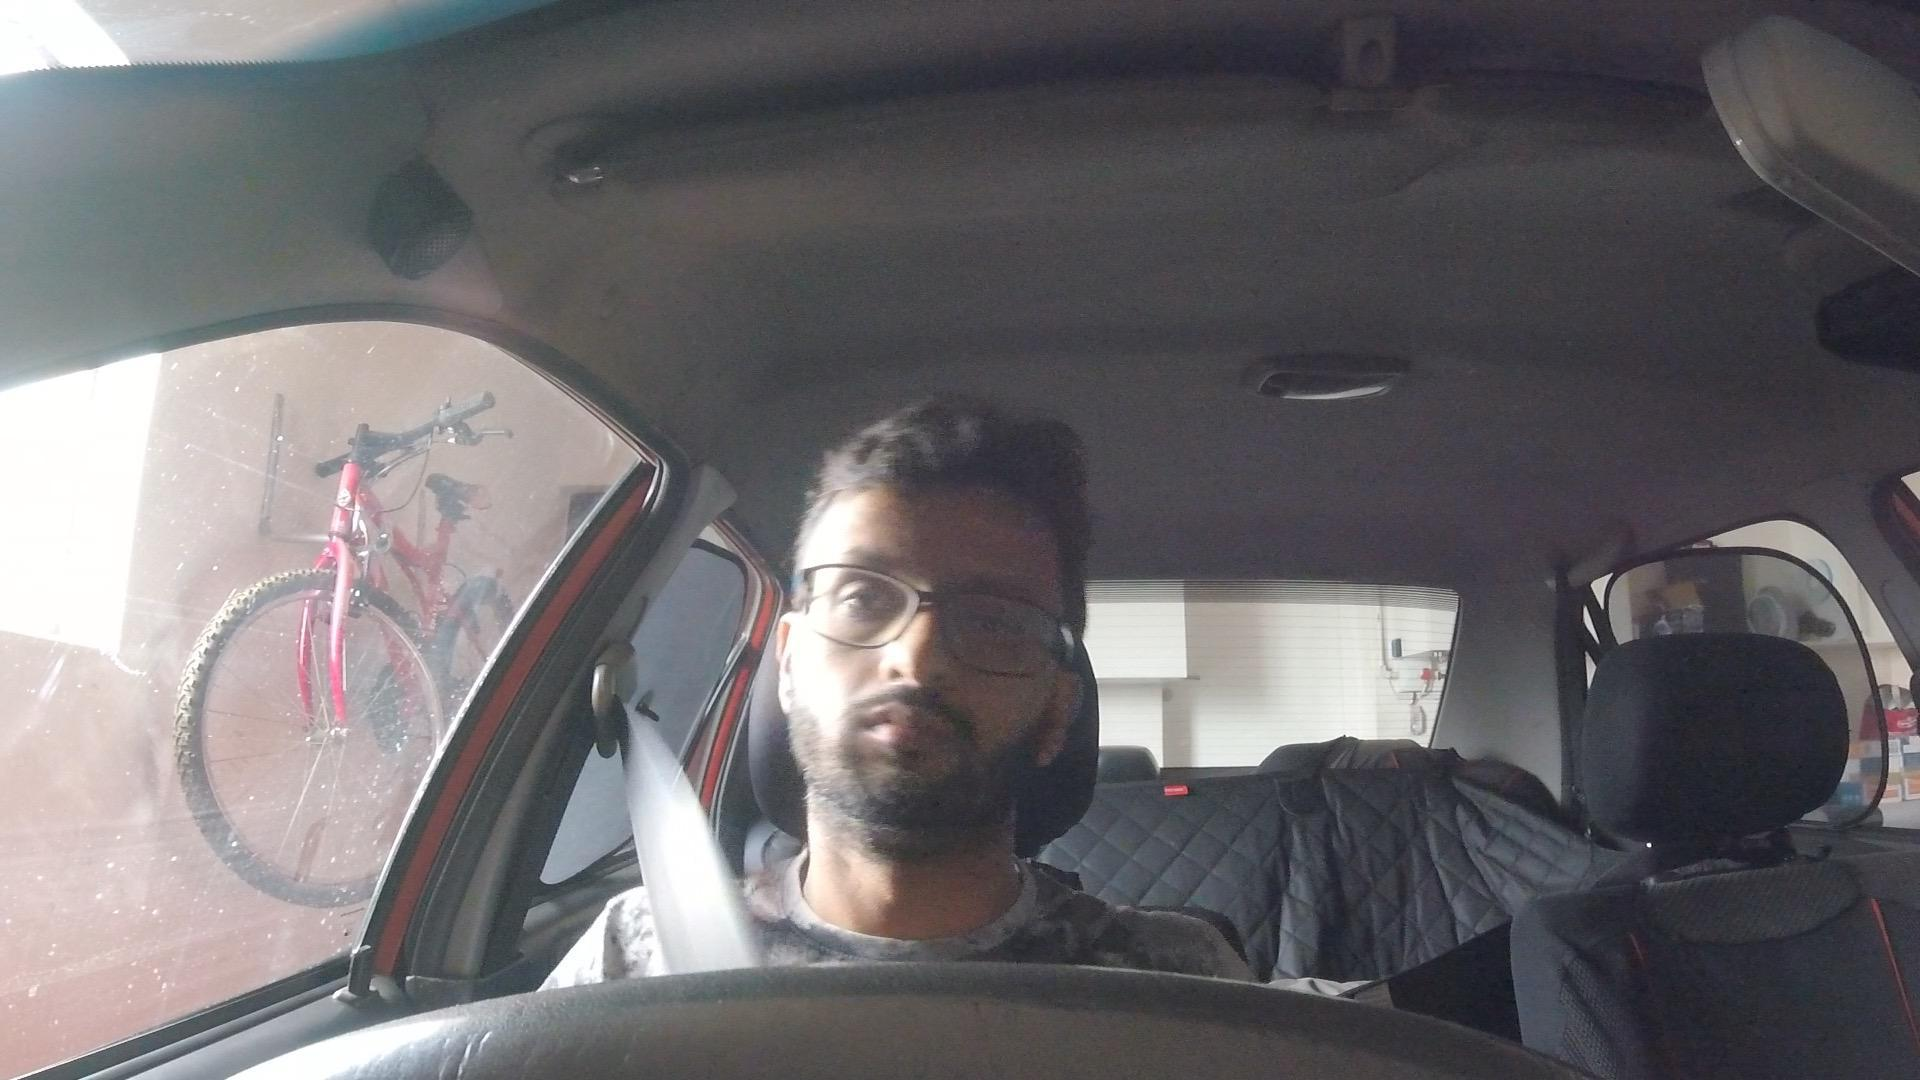SafeDriving: (766, 393, 1093, 848)
